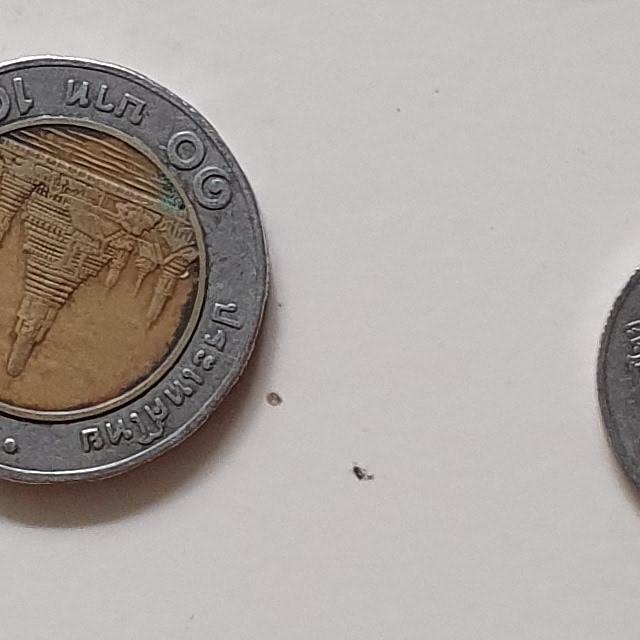1 Bath: (594, 257, 640, 510)
10 Bath: (1, 49, 280, 501)
